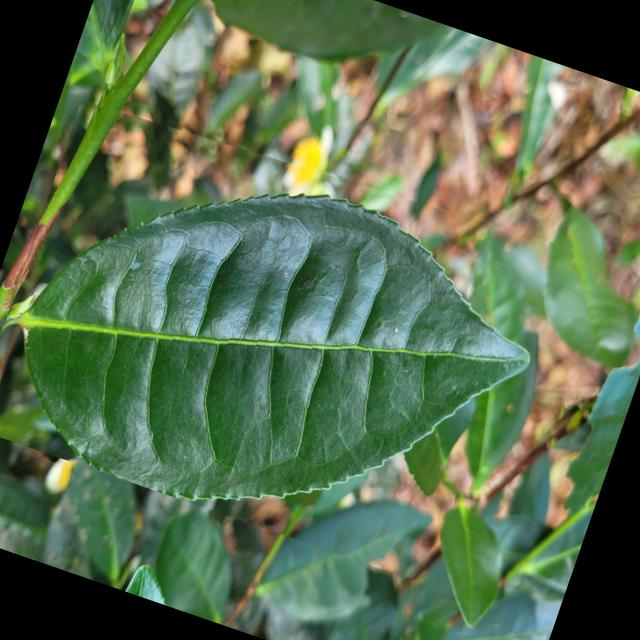Category D(7+ days, Not for Tea): (0, 80, 587, 598)
